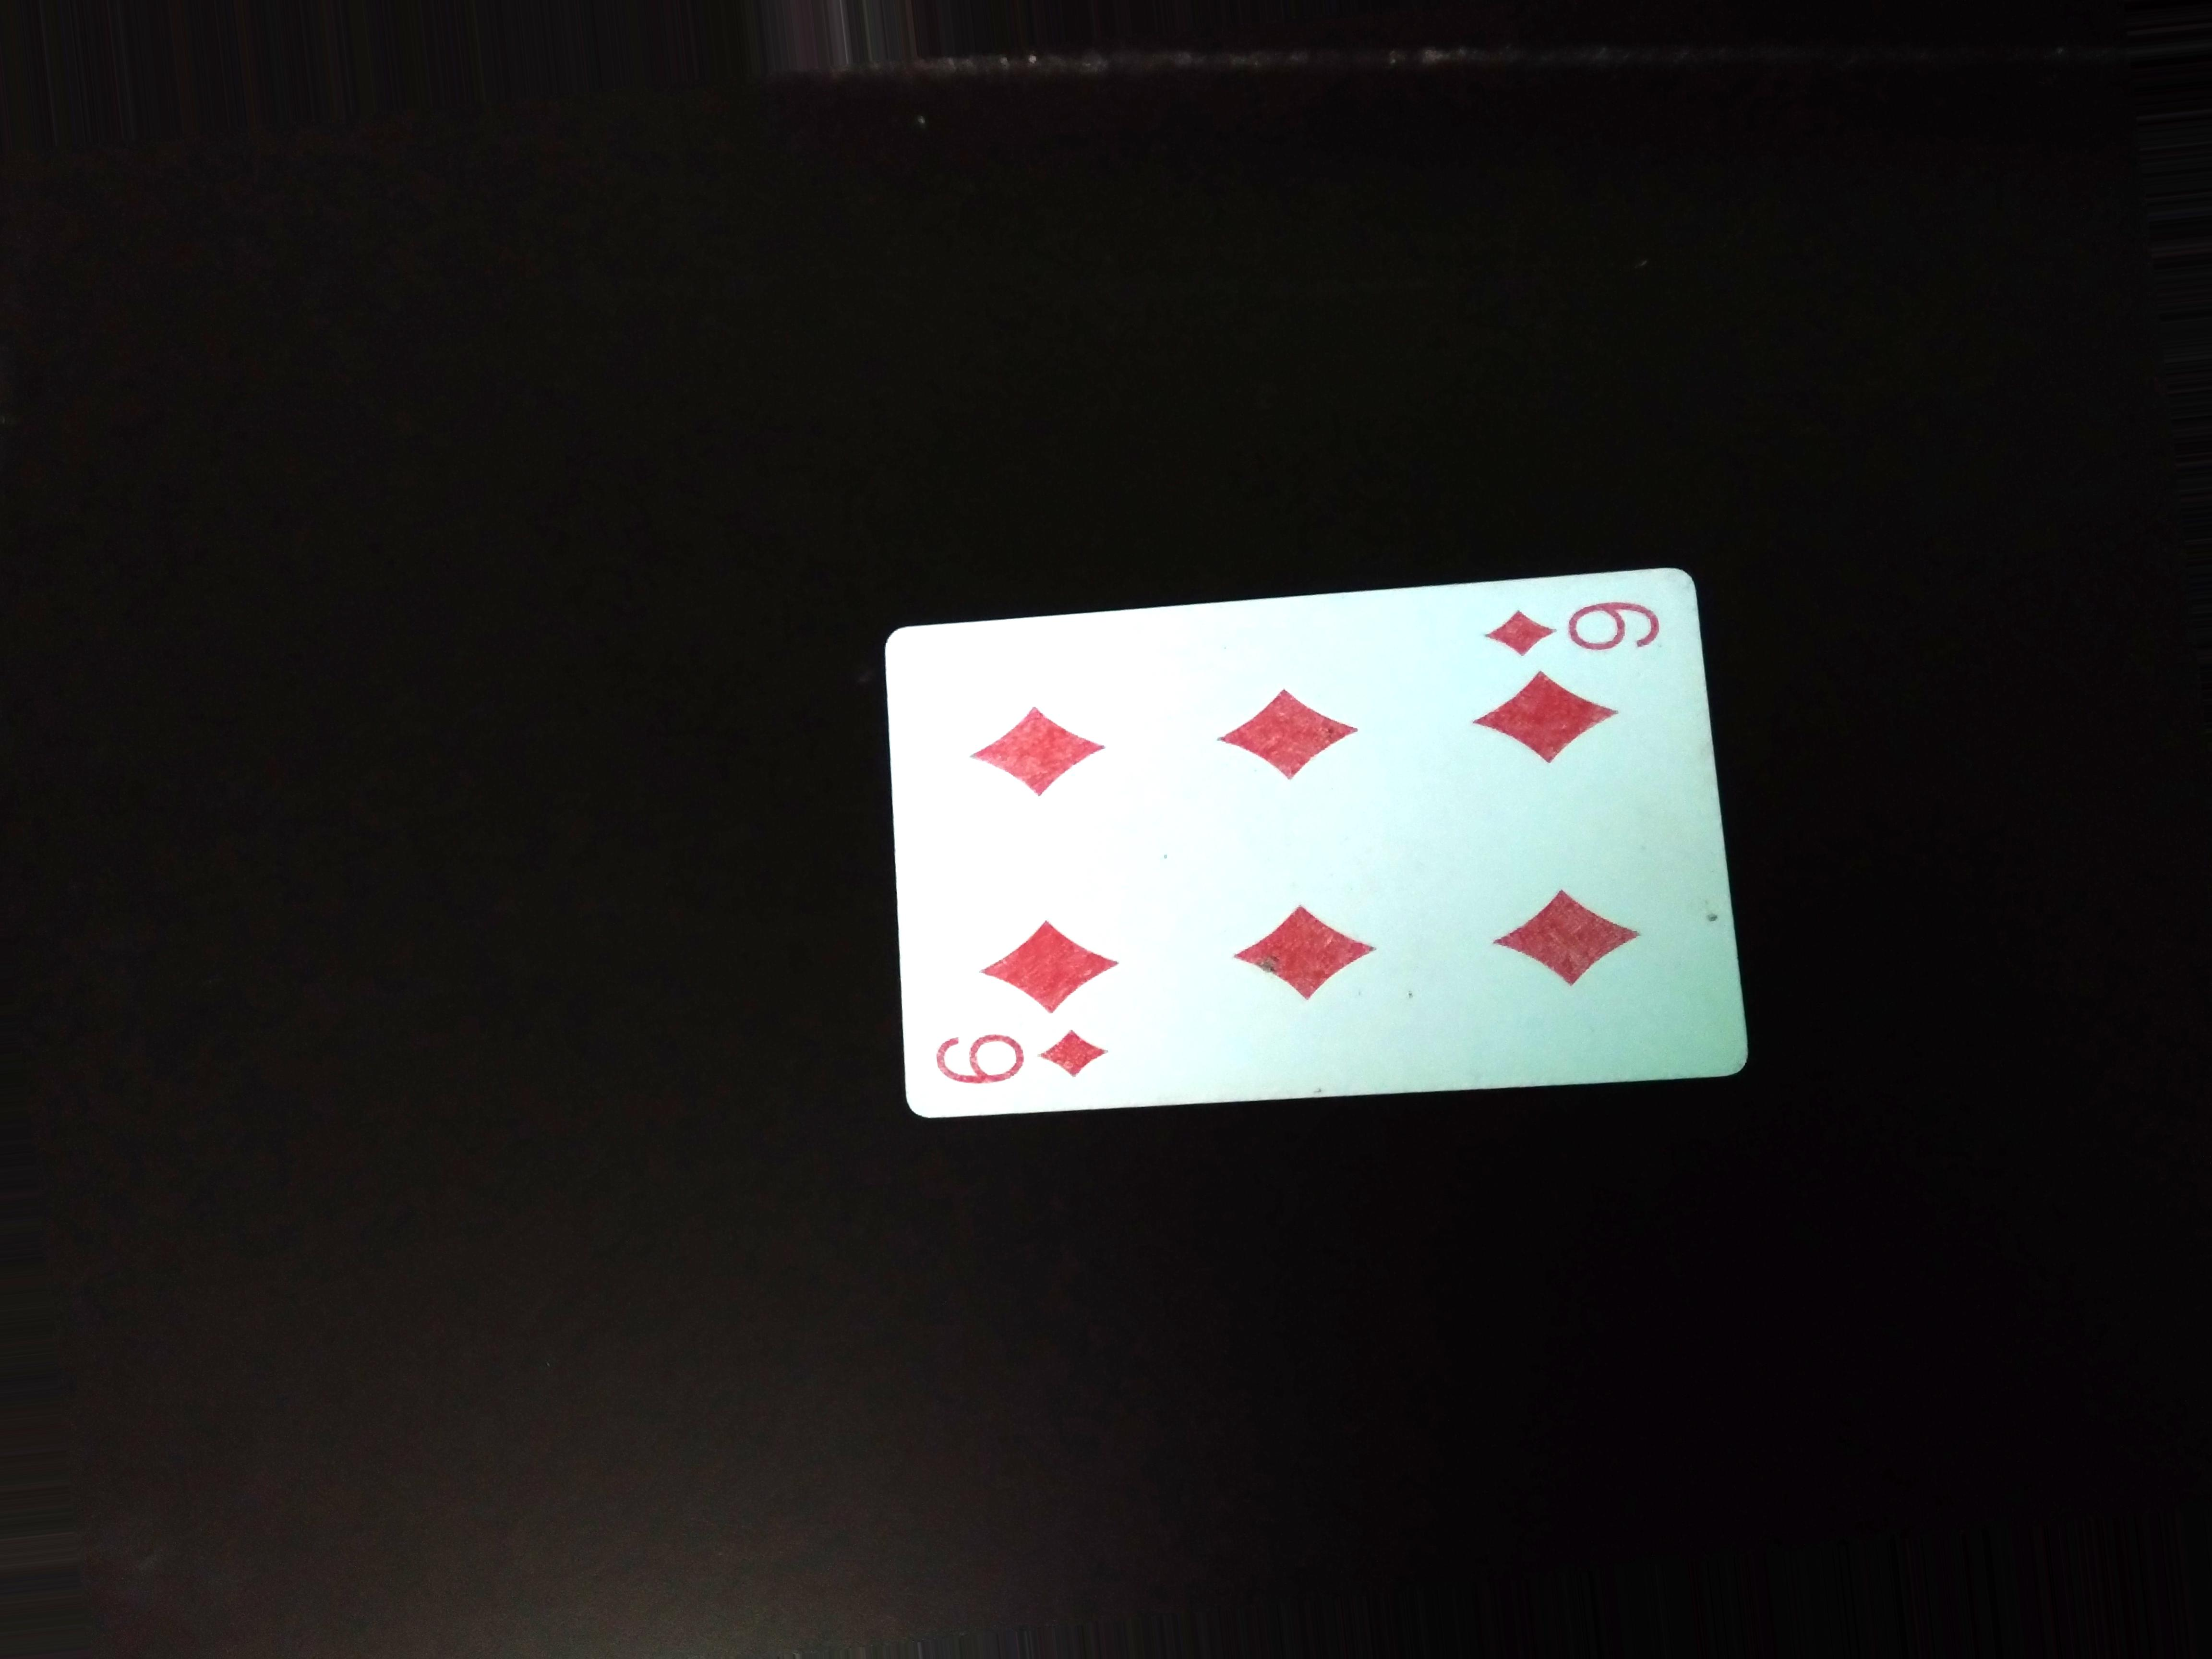6D: (918, 1019, 1130, 1110)
